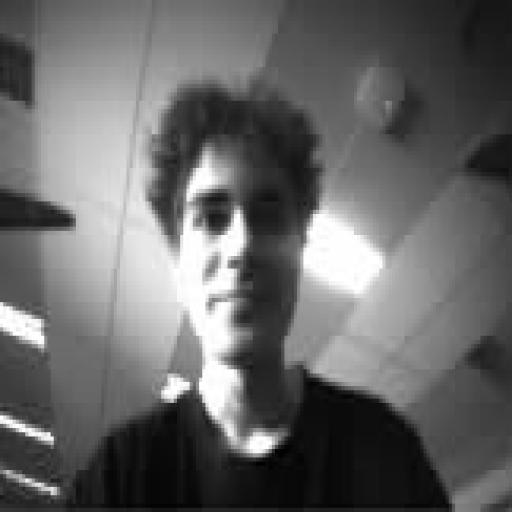human: (67, 80, 451, 511)
